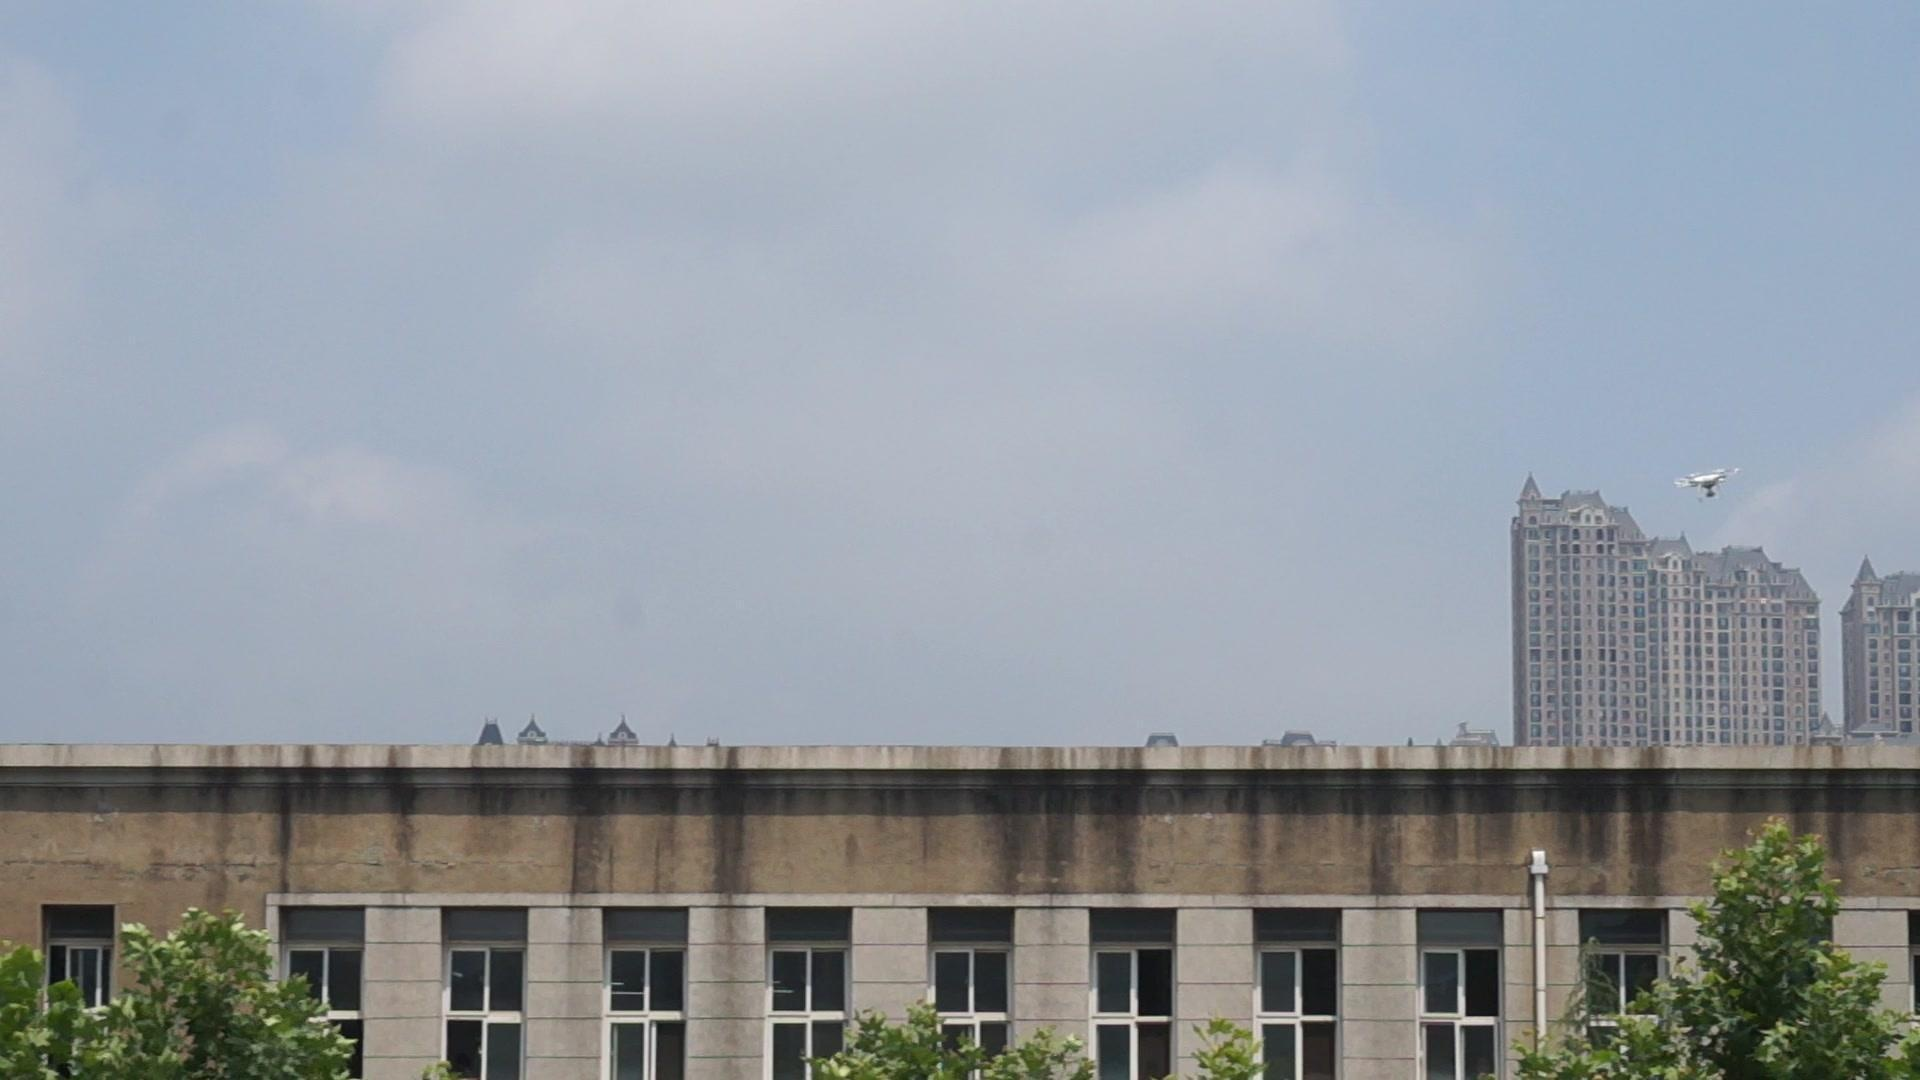UAV: (1673, 467, 1745, 504)
